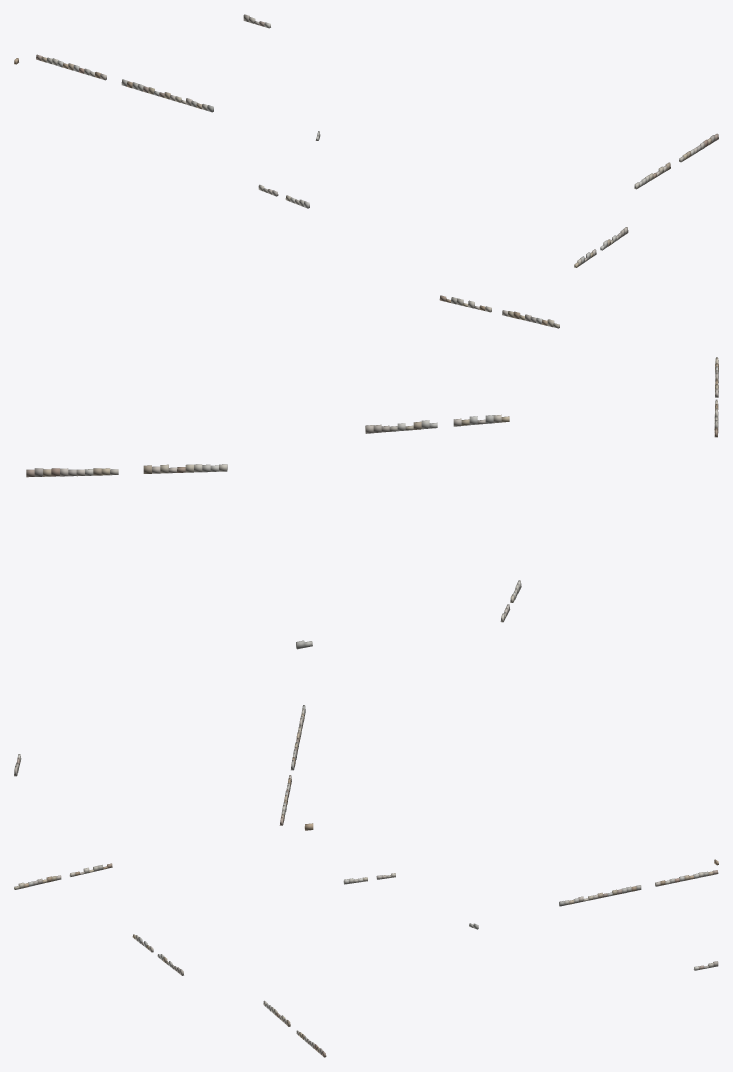
File: farm_2_15_collision.glb
The picture shows the model from 3 angles, top to bottom: view 1: azimuth 30°, elevation 25°; view 2: azimuth 150°, elevation 25°; view 3: azimuth 270°, elevation 25°; orthographic projection. The views are drawn at different scales.
Parts seen in each view (by area): view 1: geometry_0; view 2: geometry_0; view 3: geometry_0.
Boxes of the visible parts, x1,y1,x2,y2 form: geometry_0: (14, 14, 718, 328); geometry_0: (14, 357, 718, 830); geometry_0: (14, 859, 718, 1057).
Size of the model in its own units: 130 by 11.32 by 209.
